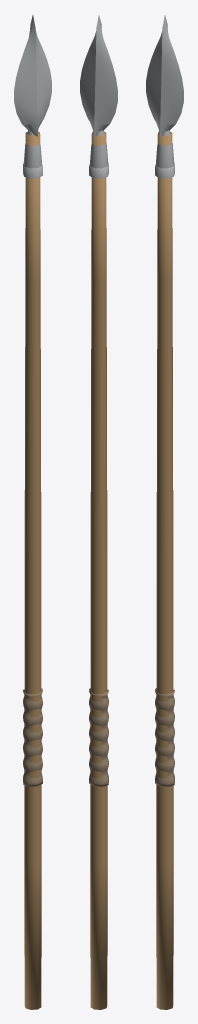
Rendered from javelin.glb.
3 renders of one model, left to right at view 1: azimuth 30°, elevation 25°; view 2: azimuth 150°, elevation 25°; view 3: azimuth 330°, elevation 25°, orthographic.
Parts seen in each view (by area): view 1: javelin; view 2: javelin; view 3: javelin.
Boxes of the visible parts, x1,y1,x2,y2 form: javelin: (14, 15, 51, 1009); javelin: (80, 15, 117, 1009); javelin: (146, 15, 183, 1009).
Size of the model in its own units: 0.1294 by 3.24 by 0.0614.
